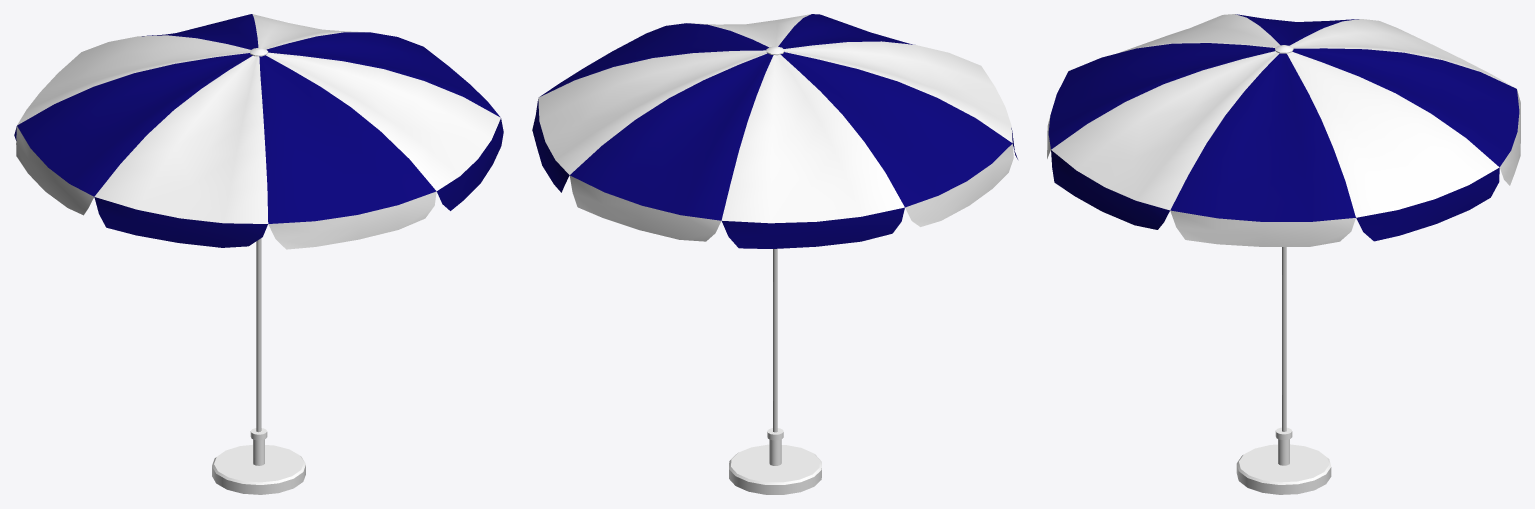
File: GuardaSol.FBX
3 views of the same model, side by side, from view 1: azimuth 30°, elevation 25°; view 2: azimuth 150°, elevation 25°; view 3: azimuth 270°, elevation 25° (orthographic).
Parts seen in each view (by area): view 1: Ombrellone002, OmbrelloneBase002, OmbrelloneVara002; view 2: Ombrellone002, OmbrelloneBase002, OmbrelloneVara002; view 3: Ombrellone002, OmbrelloneBase002, OmbrelloneVara002.
Part boxes in pixels (x1=…): Ombrellone002: x1=14, y1=14, x2=503, y2=249; OmbrelloneBase002: x1=212, y1=47, x2=305, y2=494; OmbrelloneVara002: x1=256, y1=238, x2=261, y2=432; Ombrellone002: x1=532, y1=14, x2=1017, y2=248; OmbrelloneBase002: x1=729, y1=46, x2=821, y2=494; OmbrelloneVara002: x1=773, y1=248, x2=777, y2=432; Ombrellone002: x1=1047, y1=14, x2=1520, y2=246; OmbrelloneBase002: x1=1236, y1=45, x2=1331, y2=494; OmbrelloneVara002: x1=1282, y1=247, x2=1286, y2=431.
Bounding box in the file's own units: 2.51 × 2.5 × 2.51.
